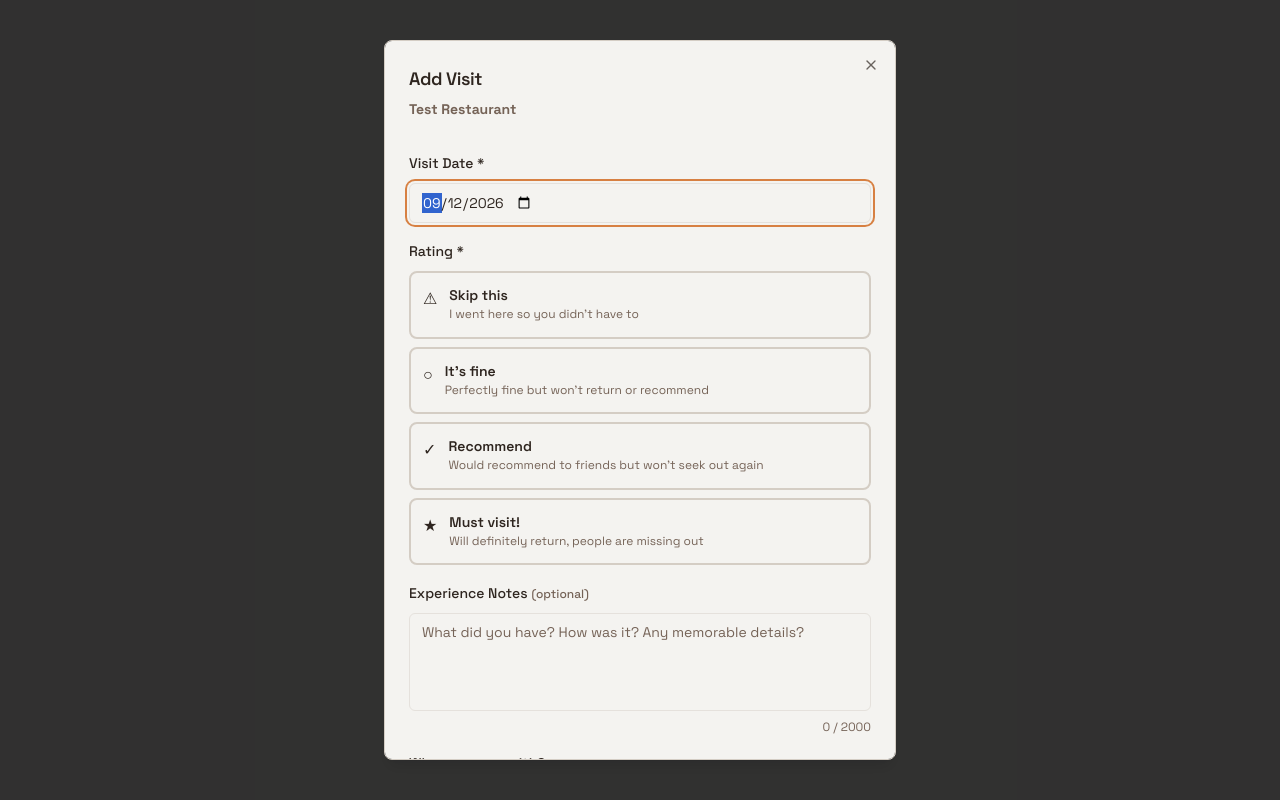
it: VisitModal › Form Submission › should disable submit button while submitting
Select rating
Click the text "Recommend": (490, 446) [448, 437, 532, 455]
(page scrolled)
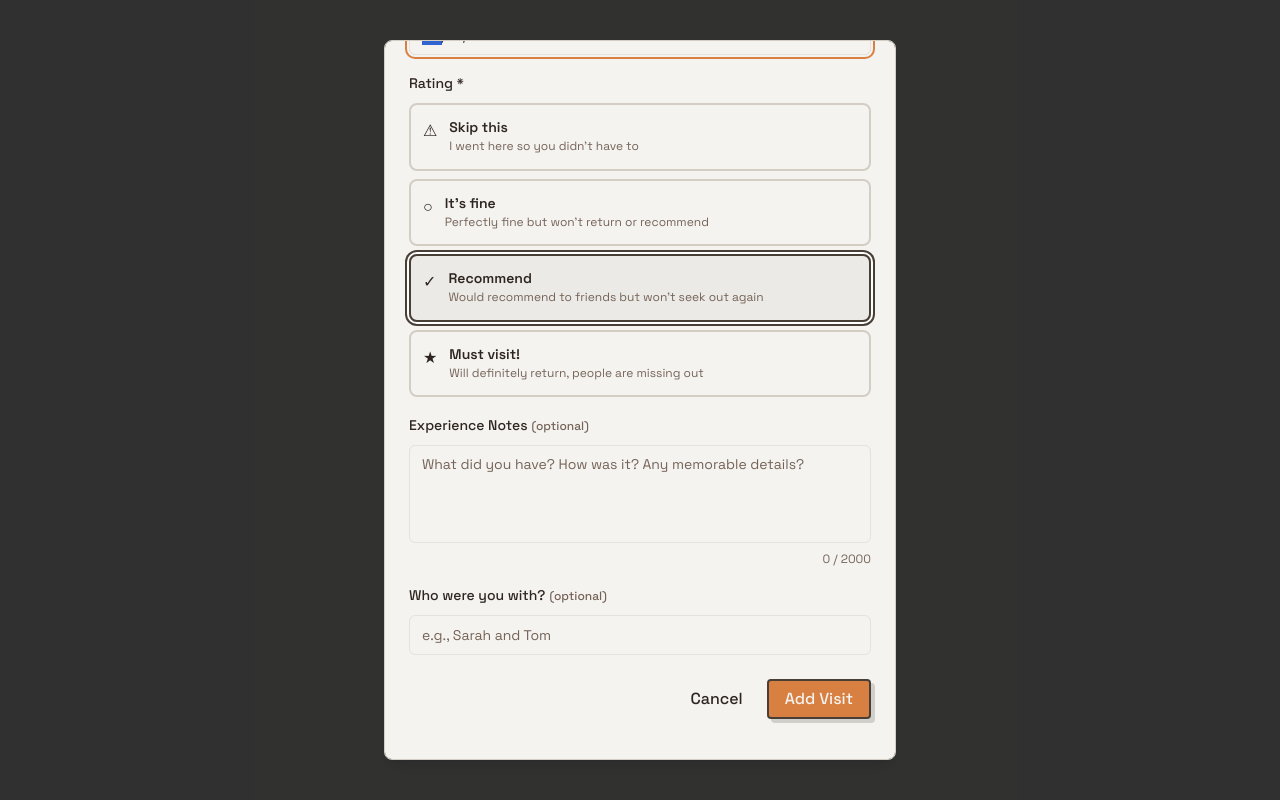
Click the button "Add Visit": (819, 699) [767, 679, 871, 719]
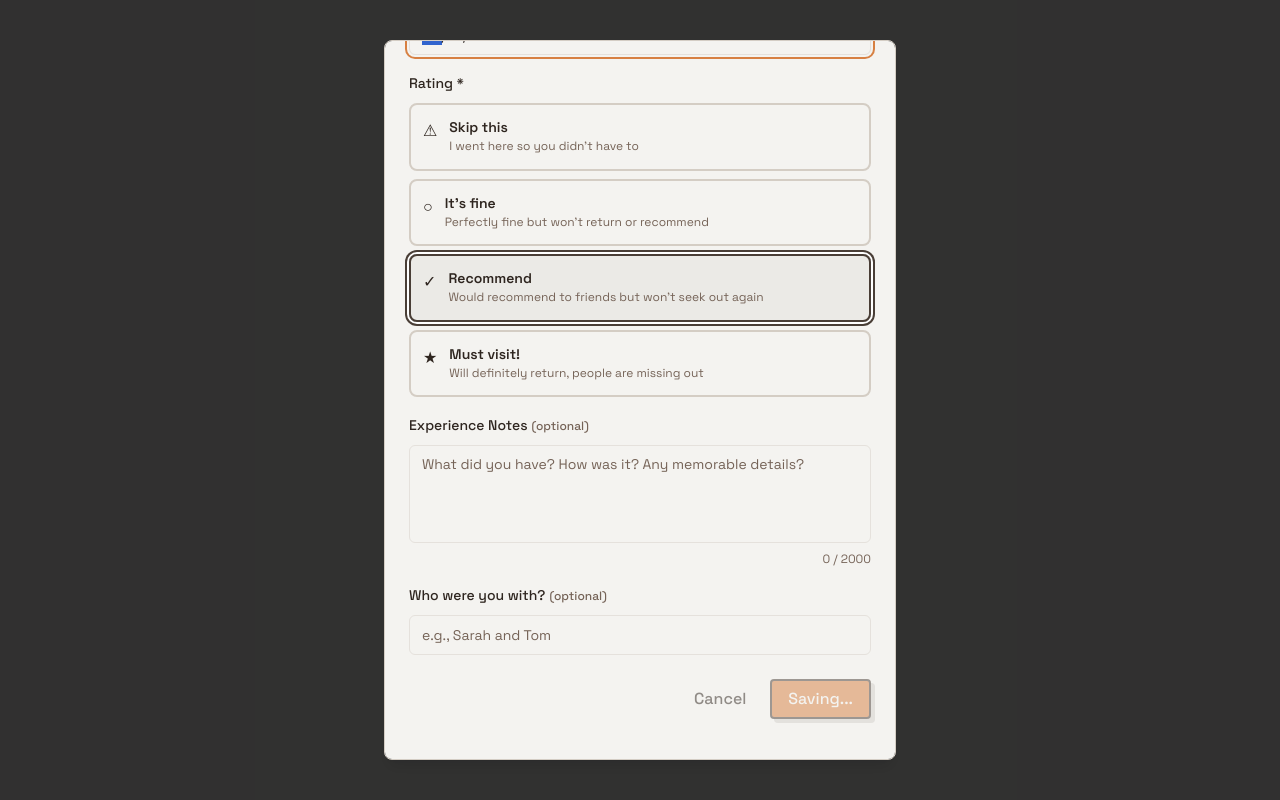
Expected: the button named "Add Visit" is disabled, [770, 679, 871, 719]
